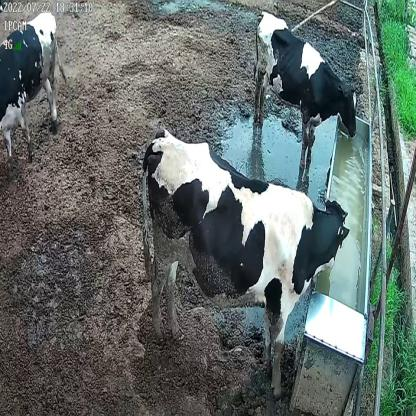cow: (137, 124, 350, 401), (251, 13, 362, 172), (0, 10, 65, 171)
